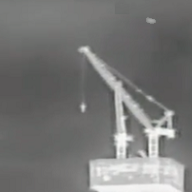Target: (145, 17, 156, 24)
